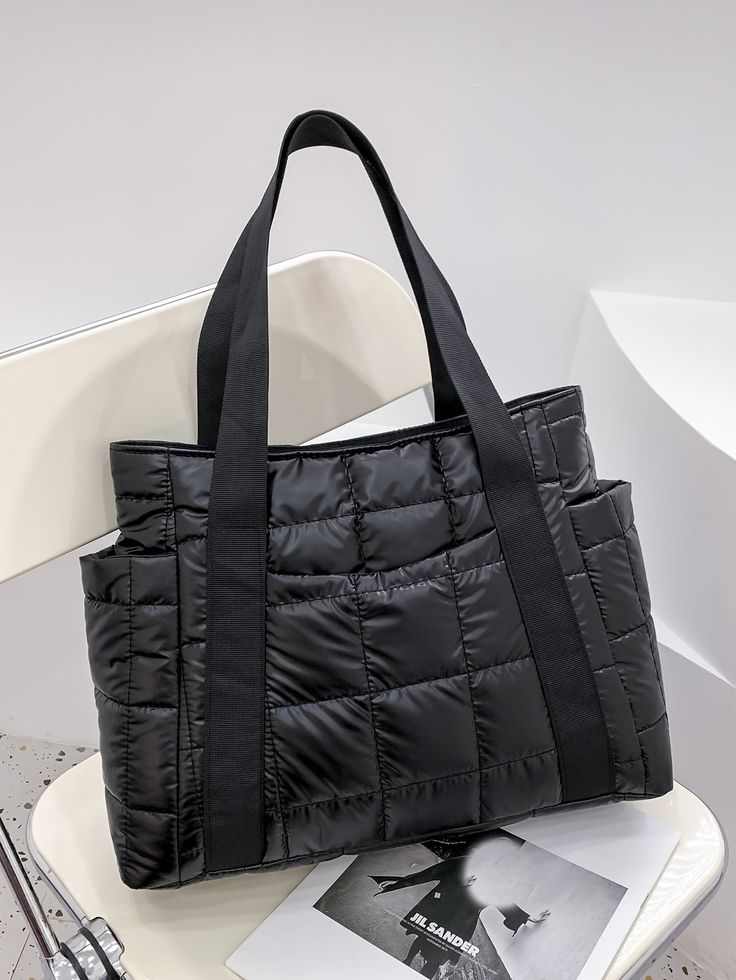nylon: (83, 385, 673, 889)
